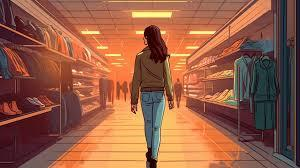Normal: (15, 5, 292, 167)
